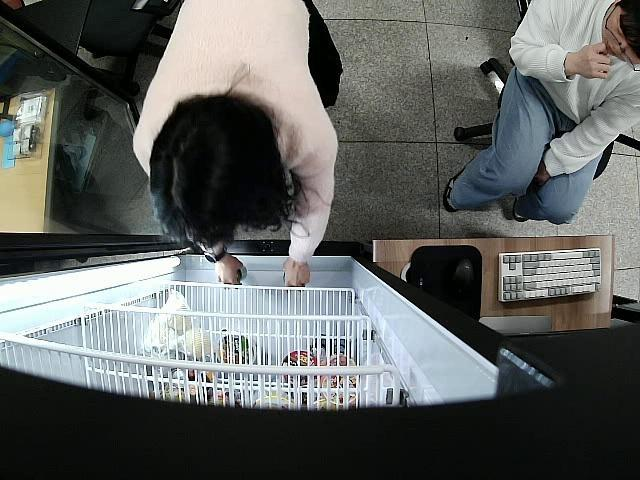12_chilsungCider: (236, 267, 246, 281)
